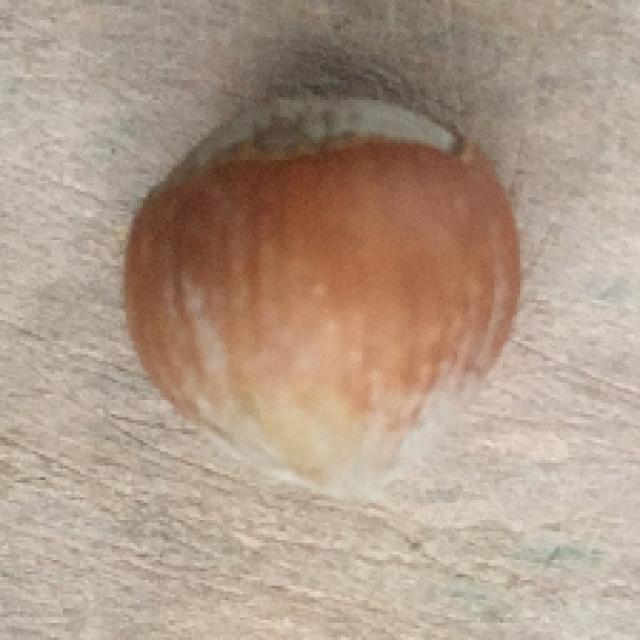qualityHazelnut: (116, 86, 526, 494)
